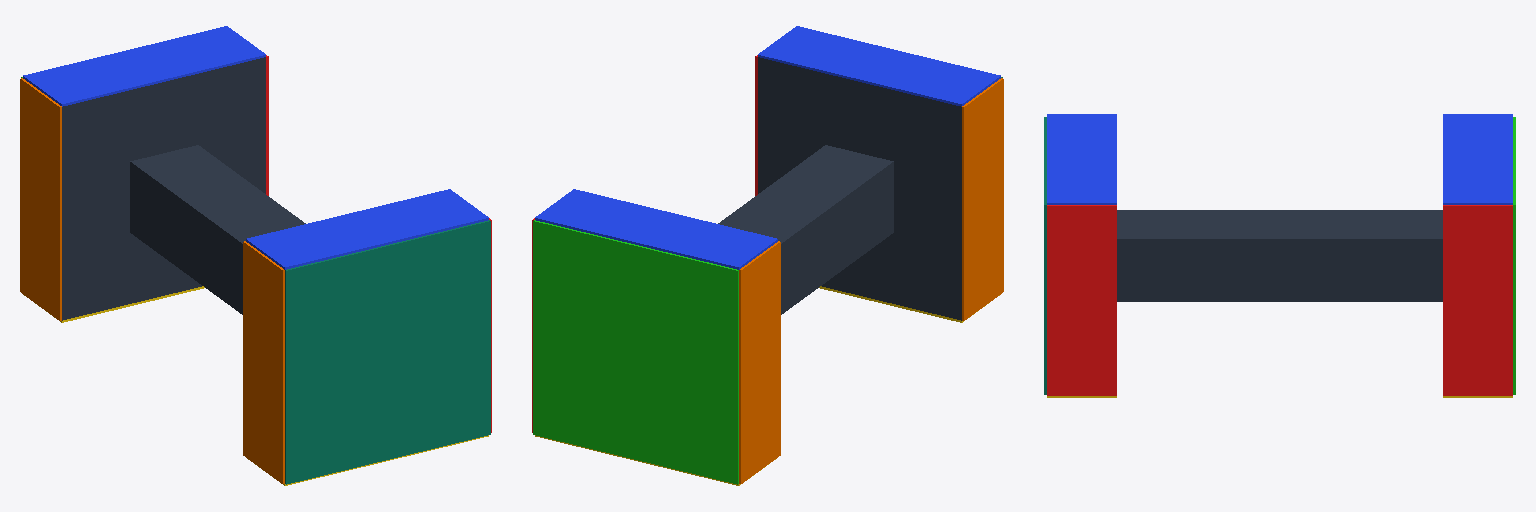
robot.urdf — dumbbell_20x9x9cm:
<?xml version="1.0"?>
<robot name="dumbbell_20x9x9cm">
  <link name="dumbbell">
    <inertial>
      <origin xyz="0 0 0" rpy="0 0 0"/>
      <mass value="0.2448"/>
      <inertia
        ixx="0.00163644"
        iyy="0.00027000"
        izz="0.00163644"
        ixy="0"
        ixz="0"
        iyz="0"/>
    </inertial>

    <!-- Primitive visuals reproduce the mesh while allowing orientation cues. -->
    <visual name="handle_visual">
      <origin xyz="0 0 0" rpy="0 0 0"/>
      <geometry><box size="0.03 0.14 0.03"/></geometry>
      <material name="dumbbell_body"><color rgba="0.24 0.28 0.34 1.0"/></material>
    </visual>
    <visual name="negative_head_visual">
      <origin xyz="0 -0.085 0" rpy="0 0 0"/>
      <geometry><box size="0.09 0.03 0.09"/></geometry>
      <material name="dumbbell_body"><color rgba="0.24 0.28 0.34 1.0"/></material>
    </visual>
    <visual name="positive_head_visual">
      <origin xyz="0 0.085 0" rpy="0 0 0"/>
      <geometry><box size="0.09 0.03 0.09"/></geometry>
      <material name="dumbbell_body"><color rgba="0.24 0.28 0.34 1.0"/></material>
    </visual>

    <!-- +X red, -X orange. Each color is repeated on both heads. -->
    <visual name="face_px_negative_head">
      <origin xyz="0.0455 -0.085 0" rpy="0 0 0"/>
      <geometry><box size="0.001 0.03 0.09"/></geometry>
      <material name="face_px"><color rgba="1.0 0.15 0.15 1.0"/></material>
    </visual>
    <visual name="face_px_positive_head">
      <origin xyz="0.0455 0.085 0" rpy="0 0 0"/>
      <geometry><box size="0.001 0.03 0.09"/></geometry>
      <material name="face_px"><color rgba="1.0 0.15 0.15 1.0"/></material>
    </visual>
    <visual name="face_nx_negative_head">
      <origin xyz="-0.0455 -0.085 0" rpy="0 0 0"/>
      <geometry><box size="0.001 0.03 0.09"/></geometry>
      <material name="face_nx"><color rgba="1.0 0.5 0.0 1.0"/></material>
    </visual>
    <visual name="face_nx_positive_head">
      <origin xyz="-0.0455 0.085 0" rpy="0 0 0"/>
      <geometry><box size="0.001 0.03 0.09"/></geometry>
      <material name="face_nx"><color rgba="1.0 0.5 0.0 1.0"/></material>
    </visual>

    <!-- +Y green, -Y teal. -->
    <visual name="face_py">
      <origin xyz="0 0.1005 0" rpy="0 0 0"/>
      <geometry><box size="0.09 0.001 0.09"/></geometry>
      <material name="face_py"><color rgba="0.15 0.85 0.15 1.0"/></material>
    </visual>
    <visual name="face_ny">
      <origin xyz="0 -0.1005 0" rpy="0 0 0"/>
      <geometry><box size="0.09 0.001 0.09"/></geometry>
      <material name="face_ny"><color rgba="0.1 0.55 0.45 1.0"/></material>
    </visual>

    <!-- +Z blue, -Z yellow. Each color is repeated on both heads. -->
    <visual name="face_pz_negative_head">
      <origin xyz="0 -0.085 0.0455" rpy="0 0 0"/>
      <geometry><box size="0.09 0.03 0.001"/></geometry>
      <material name="face_pz"><color rgba="0.2 0.35 1.0 1.0"/></material>
    </visual>
    <visual name="face_pz_positive_head">
      <origin xyz="0 0.085 0.0455" rpy="0 0 0"/>
      <geometry><box size="0.09 0.03 0.001"/></geometry>
      <material name="face_pz"><color rgba="0.2 0.35 1.0 1.0"/></material>
    </visual>
    <visual name="face_nz_negative_head">
      <origin xyz="0 -0.085 -0.0455" rpy="0 0 0"/>
      <geometry><box size="0.09 0.03 0.001"/></geometry>
      <material name="face_nz"><color rgba="1.0 0.85 0.1 1.0"/></material>
    </visual>
    <visual name="face_nz_positive_head">
      <origin xyz="0 0.085 -0.0455" rpy="0 0 0"/>
      <geometry><box size="0.09 0.03 0.001"/></geometry>
      <material name="face_nz"><color rgba="1.0 0.85 0.1 1.0"/></material>
    </visual>

    <!-- Separate primitive collisions preserve the space around the handle. -->
    <collision name="handle_collision">
      <origin xyz="0 0 0" rpy="0 0 0"/>
      <geometry>
        <box size="0.03 0.14 0.03"/>
      </geometry>
    </collision>
    <collision name="negative_head_collision">
      <origin xyz="0 -0.085 0" rpy="0 0 0"/>
      <geometry>
        <box size="0.09 0.03 0.09"/>
      </geometry>
    </collision>
    <collision name="positive_head_collision">
      <origin xyz="0 0.085 0" rpy="0 0 0"/>
      <geometry>
        <box size="0.09 0.03 0.09"/>
      </geometry>
    </collision>
  </link>
</robot>

--- Render facts (derived) ---
The picture shows the robot from 3 angles, left to right: view 1: azimuth 30°, elevation 25°; view 2: azimuth 150°, elevation 25°; view 3: azimuth 270°, elevation 25°; orthographic projection.
Robot: dumbbell_20x9x9cm — 1 links, 0 joints (none); root link dumbbell; default pose: all joints at 0.
Links seen in each view (by area): view 1: dumbbell; view 2: dumbbell; view 3: dumbbell.
Boxes of the visible links, bbox=[...] form: dumbbell: bbox=[20, 26, 491, 485]; dumbbell: bbox=[532, 26, 1003, 485]; dumbbell: bbox=[1044, 114, 1515, 397].
Bounding box of the posed robot: 0.092 × 0.202 × 0.092 m (x, y, z).
Geometry: primitives only (box / cylinder / sphere), no mesh files.
